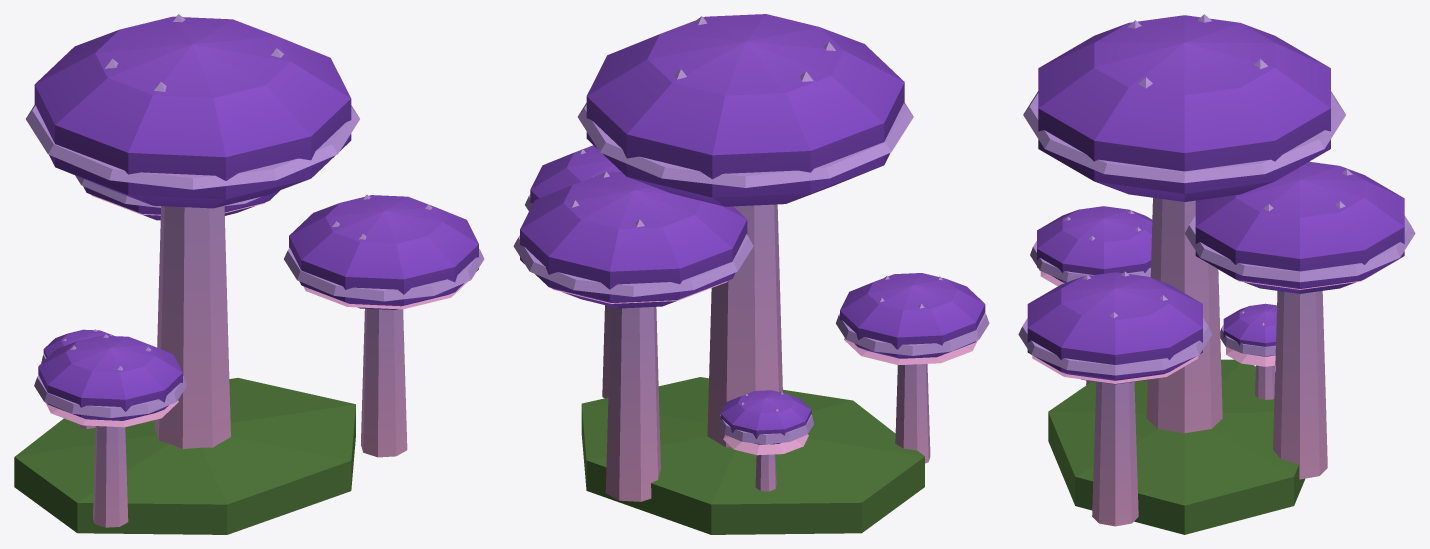
Rendered from neon_mushrooms_violet.glb.
3 renders of one model, left to right at view 1: azimuth 30°, elevation 25°; view 2: azimuth 150°, elevation 25°; view 3: azimuth 270°, elevation 25°, orthographic. The views are drawn at different scales.
Visible parts, largest first — view 1: neon_mushrooms_violet; view 2: neon_mushrooms_violet; view 3: neon_mushrooms_violet.
Boxes of the visible parts, box(x1,y1,x2,y2) form: neon_mushrooms_violet: box(14, 14, 484, 534); neon_mushrooms_violet: box(513, 14, 989, 534); neon_mushrooms_violet: box(1018, 14, 1415, 534).
Bounding box in the file's own units: 2.09 × 2.05 × 1.72.
